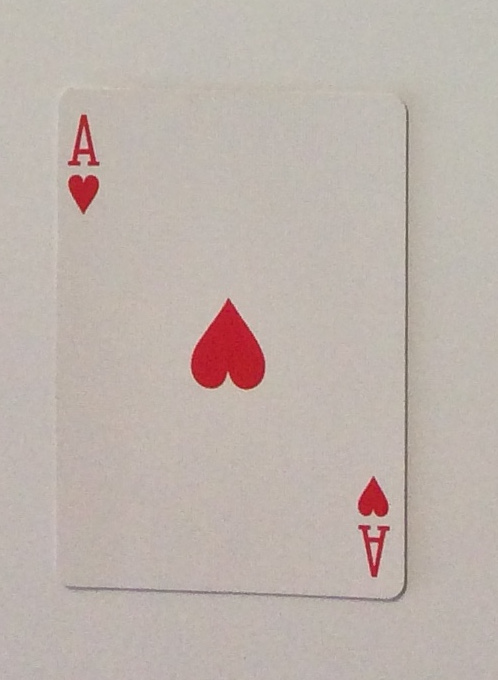A: (59, 104, 106, 173)
H: (61, 170, 108, 222)
